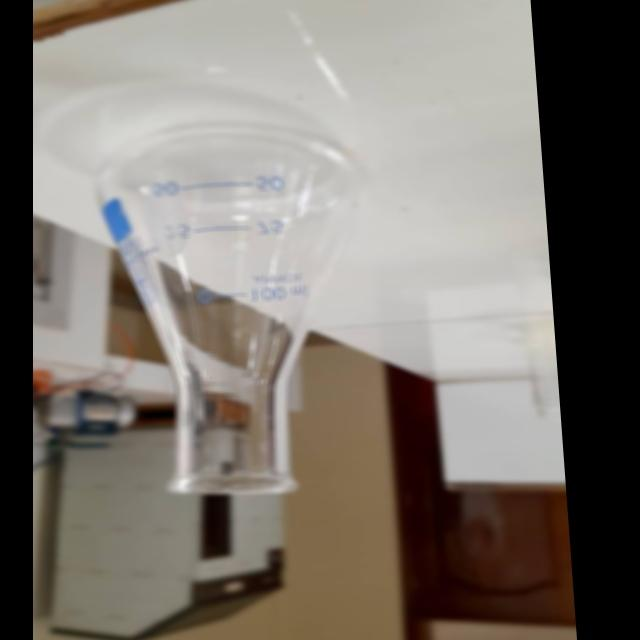Conical Flask: (83, 118, 396, 504)
